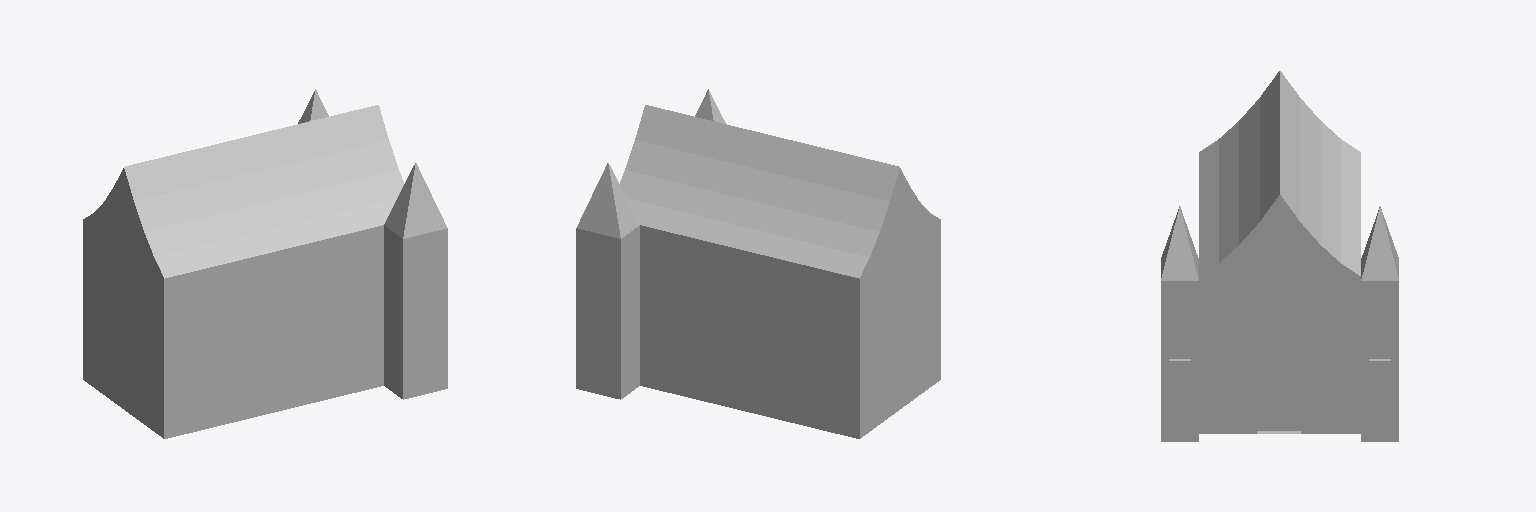
File: church.obj
3 renders of one model, left to right at view 1: azimuth 30°, elevation 25°; view 2: azimuth 150°, elevation 25°; view 3: azimuth 270°, elevation 25°, orthographic.
Parts seen in each view (by area): view 1: Cube_Cube.002; view 2: Cube_Cube.002; view 3: Cube_Cube.002.
Boxes of the visible parts, <box> form: Cube_Cube.002: <box>83,89,447,438</box>; Cube_Cube.002: <box>576,89,940,438</box>; Cube_Cube.002: <box>1161,71,1398,441</box>.
Size of the model in its own units: 3.76 by 3.31 by 2.95.